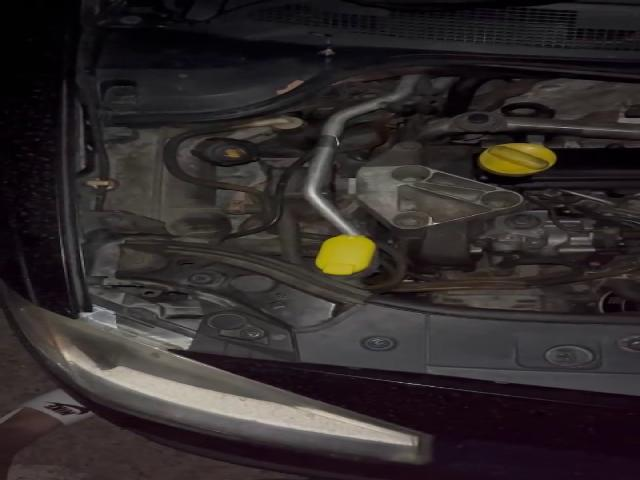antifreeze_tank: (106, 128, 235, 237), (177, 131, 263, 181)
